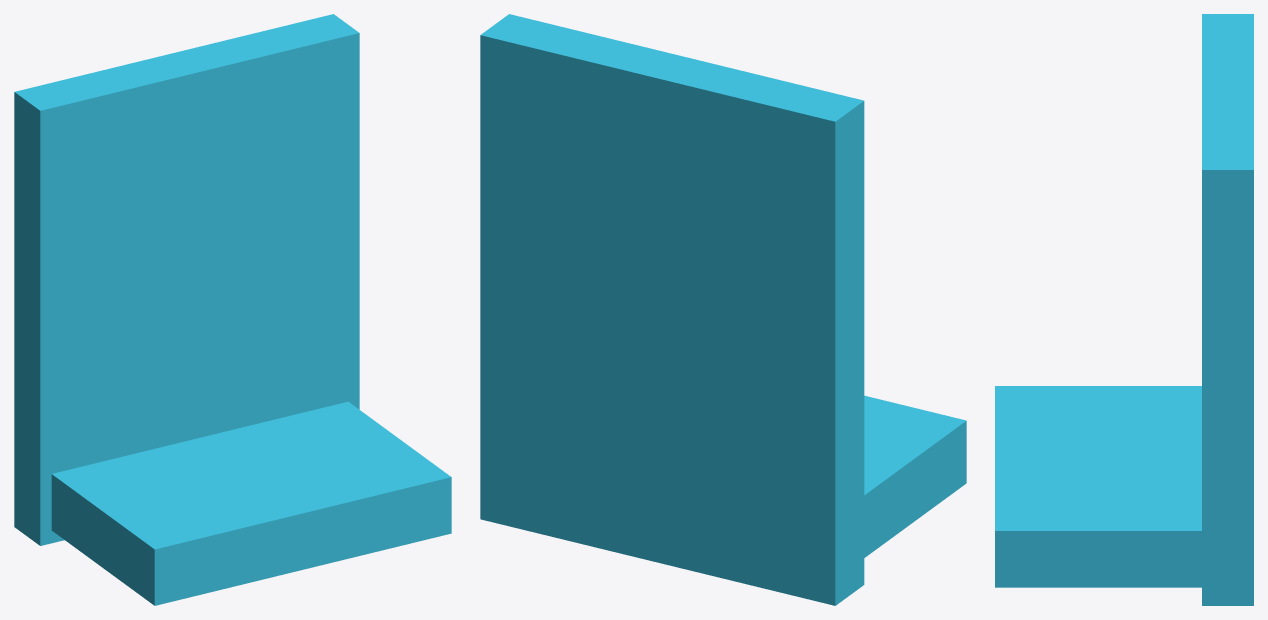
File: sillon_rivadavia.glb
3 views of the same model, side by side, from view 1: azimuth 30°, elevation 25°; view 2: azimuth 150°, elevation 25°; view 3: azimuth 270°, elevation 25° (orthographic). The views are drawn at different scales.
Visible parts, largest first — view 1: sillon_rivadavia; view 2: sillon_rivadavia; view 3: sillon_rivadavia.
Part boxes in pixels (x1=…): sillon_rivadavia: x1=14, y1=14, x2=451, y2=605; sillon_rivadavia: x1=480, y1=14, x2=966, y2=605; sillon_rivadavia: x1=995, y1=14, x2=1253, y2=605.
Bounding box in the file's own units: 1.42 × 1.85 × 0.995.
